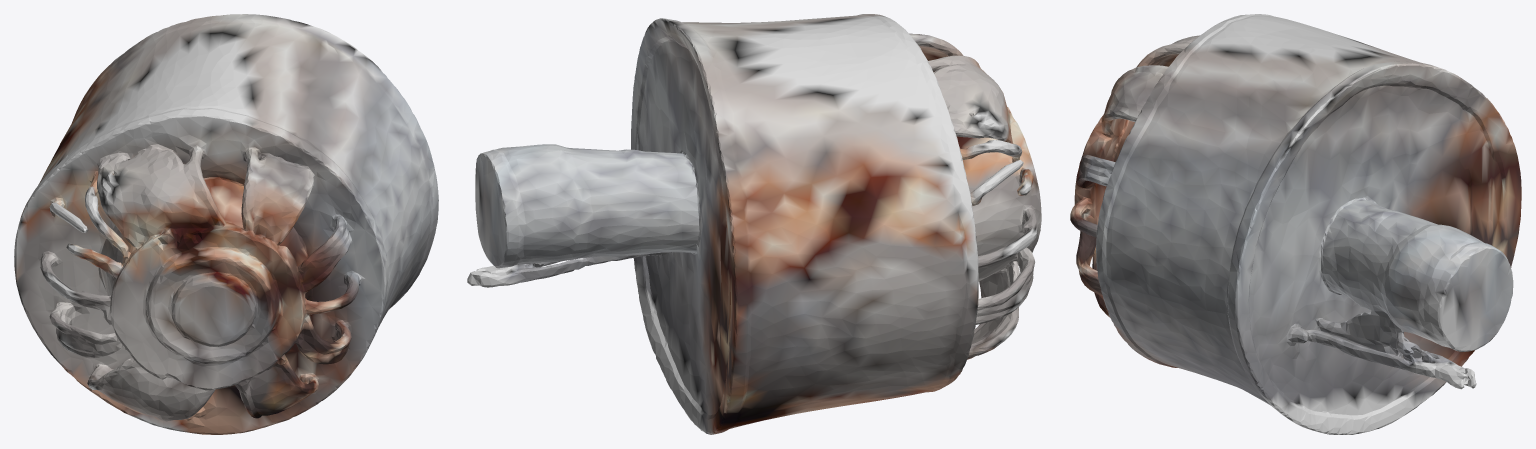
Rendered from motor.glb.
3 renders of one model, left to right at view 1: azimuth 30°, elevation 25°; view 2: azimuth 150°, elevation 25°; view 3: azimuth 270°, elevation 25°, orthographic. The views are drawn at different scales.
Visible parts, largest first — view 1: tmp0w85_79l.ply; view 2: tmp0w85_79l.ply; view 3: tmp0w85_79l.ply.
Part boxes in pixels (x1,y1,x2,y2): tmp0w85_79l.ply: [14, 14, 438, 434]; tmp0w85_79l.ply: [467, 14, 1041, 434]; tmp0w85_79l.ply: [1070, 14, 1521, 434].
Size of the model in its own units: 1 by 0.7872 by 0.8986.
